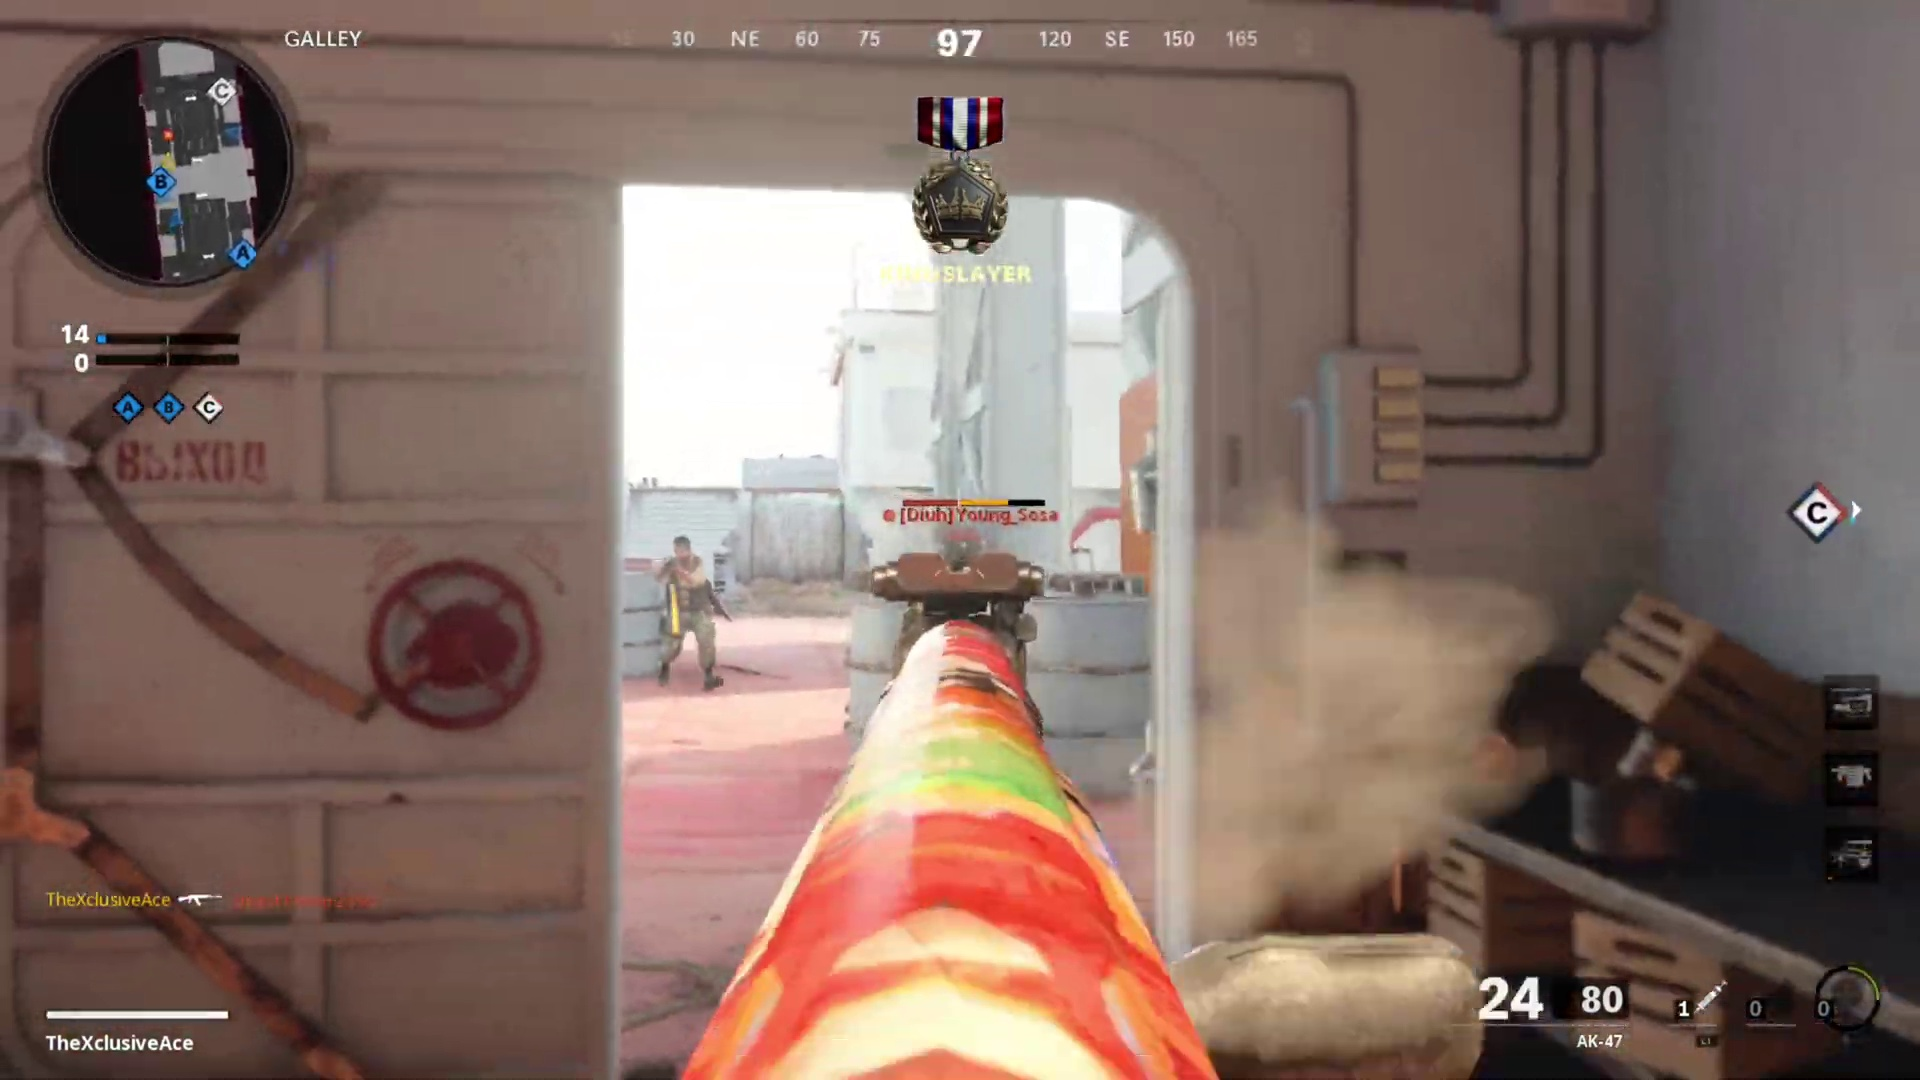head: (667, 530, 696, 569)
person: (647, 532, 729, 686)
